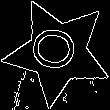O_E: (29, 27, 86, 77)
